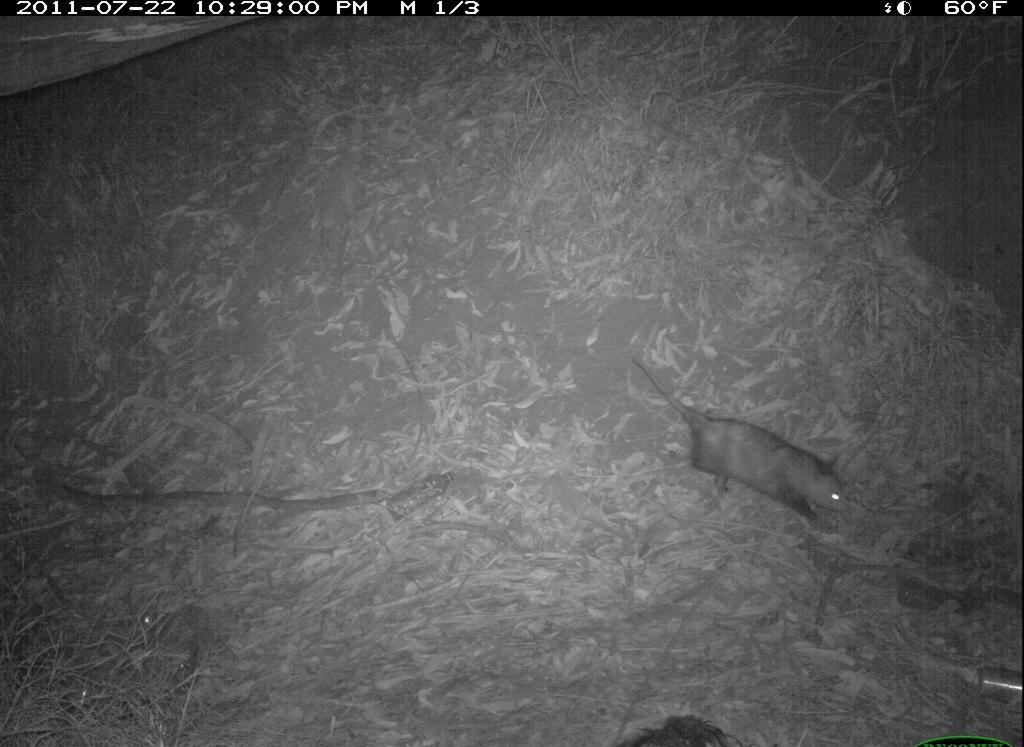opossum: (626, 353, 854, 525)
